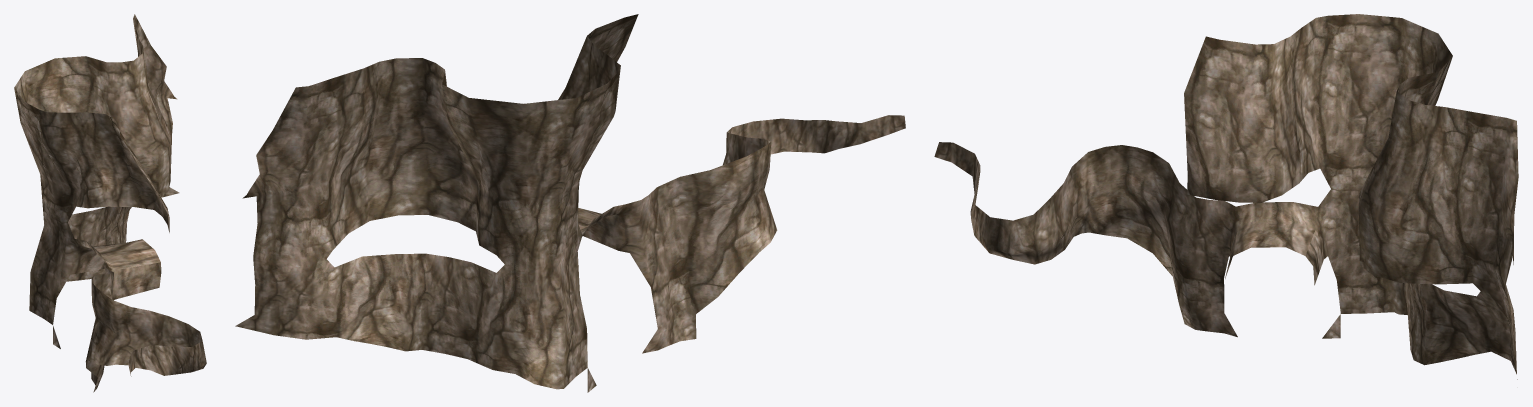
File: EKH_THRONE_PS_TH_LAKE_WALL876.fbx
The picture shows the model from 3 angles, left to right: view 1: azimuth 30°, elevation 25°; view 2: azimuth 150°, elevation 25°; view 3: azimuth 270°, elevation 25°; orthographic projection. The views are drawn at different scales.
Visible parts, largest first — view 1: EKH_THRONE_PS_TH_LAKE_WALL876; view 2: EKH_THRONE_PS_TH_LAKE_WALL876; view 3: EKH_THRONE_PS_TH_LAKE_WALL876.
Part boxes in pixels (x1,y1,x2,y2): EKH_THRONE_PS_TH_LAKE_WALL876: (14,14,206,392); EKH_THRONE_PS_TH_LAKE_WALL876: (235,14,905,392); EKH_THRONE_PS_TH_LAKE_WALL876: (934,14,1518,379).
Size of the model in its own units: 159417 by 133618 by 227084.
1 material, 1 textured.
